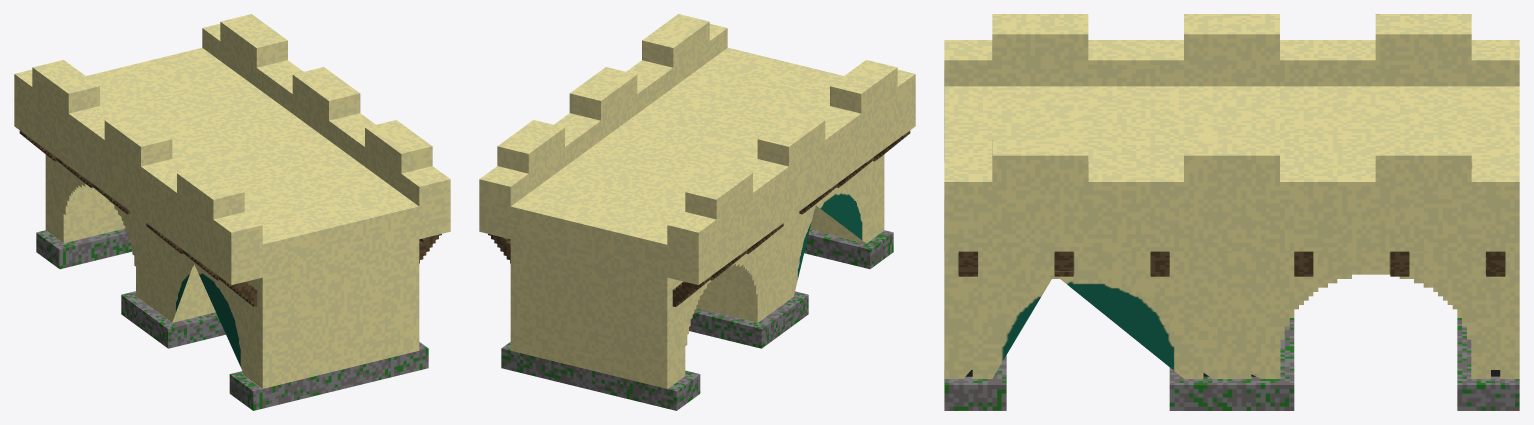
The model's file is Bridge_Low_Body.obj.
3 views of the same model, side by side, from view 1: azimuth 30°, elevation 25°; view 2: azimuth 150°, elevation 25°; view 3: azimuth 270°, elevation 25° (orthographic). The views are drawn at different scales.
Parts seen in each view (by area): view 1: Bridge_Low_Body_Medieval_Assets-0.001; view 2: Bridge_Low_Body_Medieval_Assets-0.001; view 3: Bridge_Low_Body_Medieval_Assets-0.001.
Boxes of the visible parts, <box> form: Bridge_Low_Body_Medieval_Assets-0.001: <box>14,14,450,410</box>; Bridge_Low_Body_Medieval_Assets-0.001: <box>479,14,915,410</box>; Bridge_Low_Body_Medieval_Assets-0.001: <box>944,14,1519,410</box>.
Bounding box in the file's own units: 7 × 6.2 × 12.
Materials: 1 (1 with a texture image).
